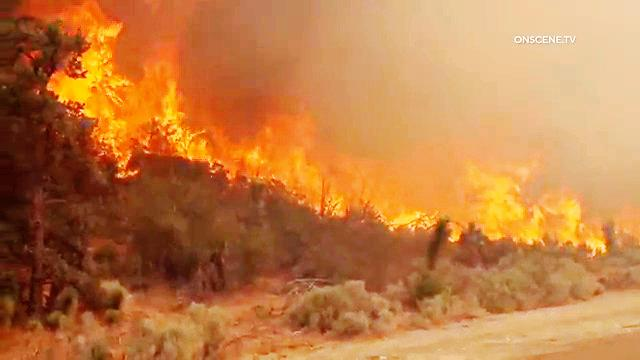fire: (59, 12, 181, 175), (453, 143, 622, 252), (180, 100, 350, 208), (206, 10, 399, 102), (319, 157, 469, 245)
